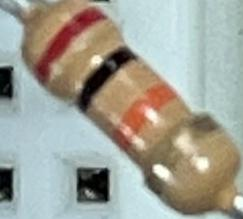Black: (69, 41, 141, 115)
Orange: (109, 75, 181, 154)
Red: (27, 1, 114, 90)
Side-Silver: (135, 110, 225, 198)
